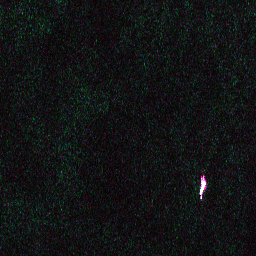ship: (197, 178, 207, 197)
